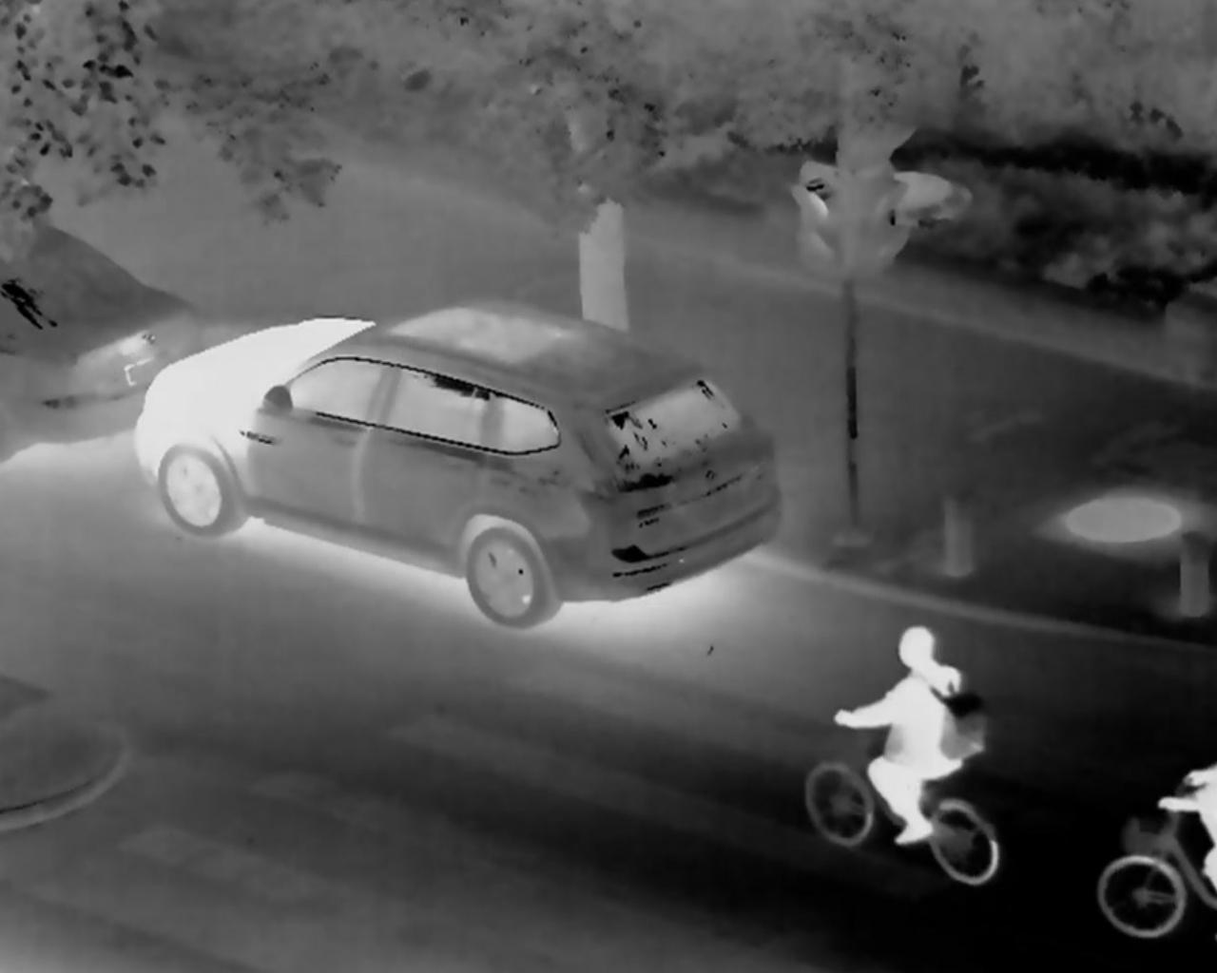person: (832, 620, 977, 853)
